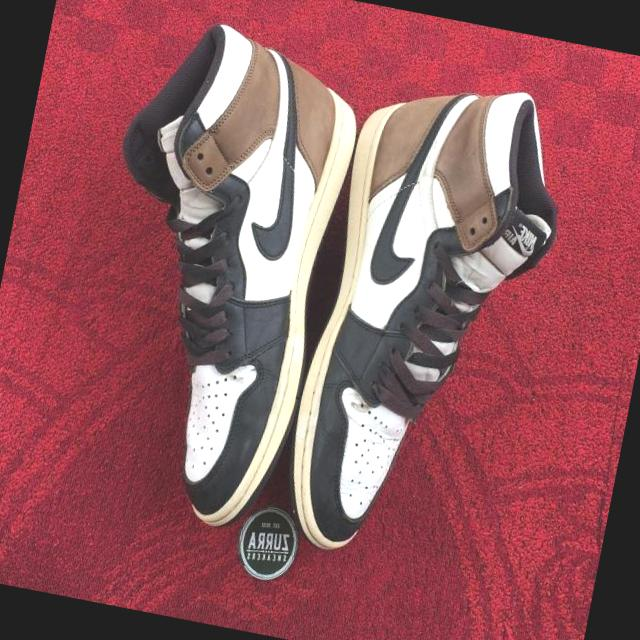nike_original_jordan: (51, 12, 374, 552), (270, 66, 586, 596)
